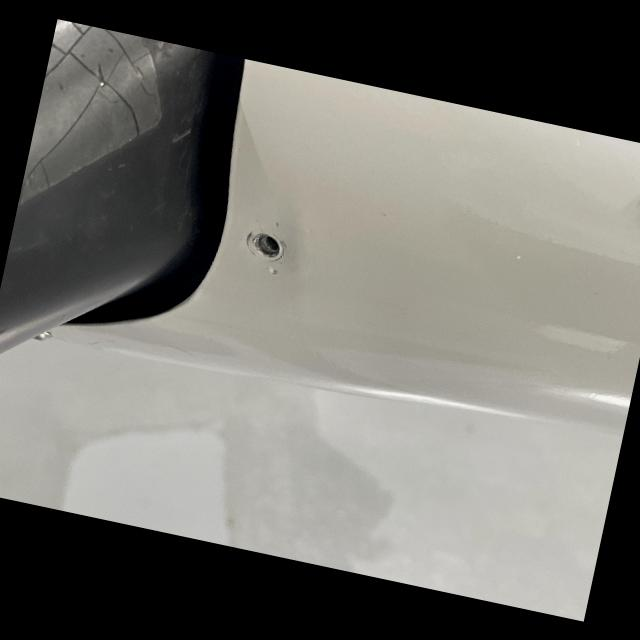Missing Fastener: (242, 227, 293, 264)
